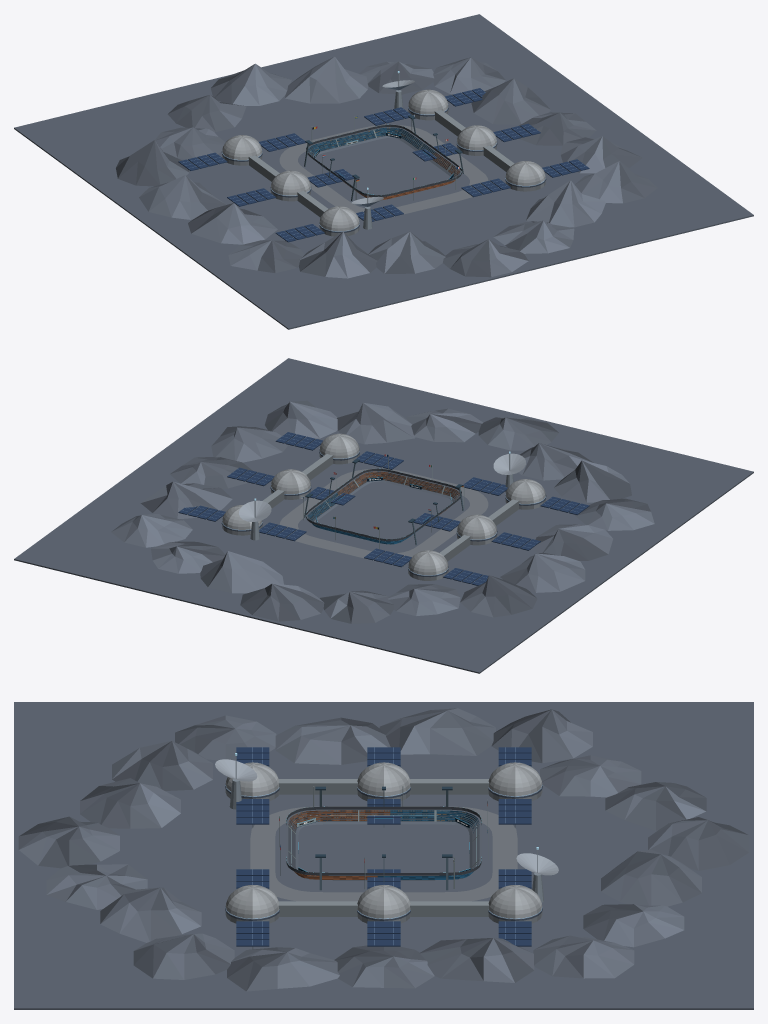
File: lunar-v2.glb
3 views of the same model, one above another, from view 1: azimuth 30°, elevation 25°; view 2: azimuth 150°, elevation 25°; view 3: azimuth 270°, elevation 25° (orthographic). The views are drawn at different scales.
Parts seen in each view (by area): view 1: Arena architecture / lunar, Arena lettering and light ribbons / lunar; view 2: Arena architecture / lunar, Arena lettering and light ribbons / lunar; view 3: Arena architecture / lunar, Arena lettering and light ribbons / lunar.
Boxes of the visible parts, bbox=[...] form: Arena architecture / lunar: bbox=[14, 14, 753, 329]; Arena lettering and light ribbons / lunar: bbox=[183, 71, 584, 239]; Arena architecture / lunar: bbox=[14, 358, 753, 673]; Arena lettering and light ribbons / lunar: bbox=[183, 434, 584, 583]; Arena architecture / lunar: bbox=[14, 702, 753, 1009]; Arena lettering and light ribbons / lunar: bbox=[225, 747, 542, 944].
Bounding box in the file's own units: 61300 × 5280 × 62600.
Materials: 4 (2 with a texture image).
